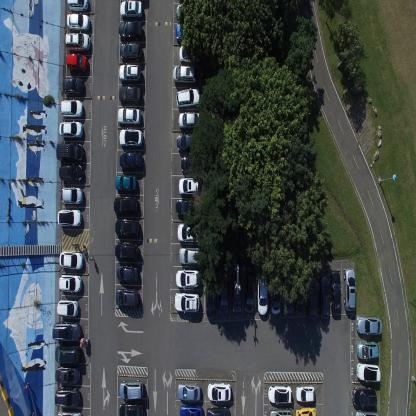car: (176, 222, 206, 244), (52, 320, 81, 342), (56, 141, 84, 162), (269, 268, 281, 316), (176, 131, 202, 153), (343, 268, 356, 312), (351, 386, 377, 408), (356, 315, 382, 337), (174, 291, 200, 313), (329, 270, 341, 316), (176, 86, 200, 109), (55, 385, 80, 407), (205, 270, 216, 318), (115, 286, 139, 308), (118, 379, 143, 400), (118, 19, 143, 40), (113, 195, 138, 216), (174, 268, 200, 288), (355, 362, 381, 382), (175, 2, 201, 22), (175, 22, 201, 42), (54, 344, 80, 364), (256, 271, 267, 318), (66, 52, 89, 74), (119, 127, 143, 148), (243, 272, 255, 314), (172, 64, 197, 84), (267, 384, 292, 404), (115, 218, 140, 238), (218, 271, 229, 316), (307, 278, 318, 323), (318, 276, 329, 321), (294, 273, 305, 317), (118, 61, 141, 82), (60, 184, 83, 205), (57, 208, 81, 228), (56, 298, 80, 318), (115, 241, 139, 261), (206, 382, 231, 401), (59, 250, 84, 269), (55, 365, 80, 384), (65, 32, 90, 51), (58, 163, 84, 181), (119, 41, 142, 61), (119, 150, 142, 170), (283, 271, 293, 317), (177, 382, 200, 402), (60, 98, 83, 118), (175, 198, 199, 217), (59, 120, 83, 139), (355, 341, 379, 360), (58, 274, 82, 293), (231, 274, 242, 315), (178, 247, 203, 265), (178, 110, 200, 130), (178, 176, 200, 196), (118, 106, 141, 125), (119, 86, 142, 105), (119, 0, 142, 19), (66, 13, 90, 31), (115, 173, 137, 192), (178, 44, 200, 63), (63, 76, 85, 95), (116, 263, 138, 282), (180, 156, 204, 172), (295, 385, 315, 403), (119, 401, 143, 415), (180, 403, 202, 415), (66, 0, 88, 12), (206, 405, 230, 415), (294, 406, 316, 416), (268, 407, 292, 415), (57, 409, 83, 415), (354, 410, 380, 415)
